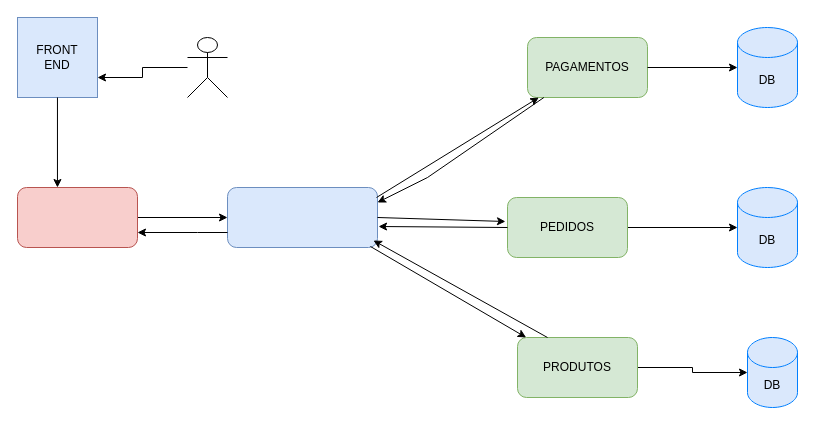
This 815x425 diagram has some shape labels left out. Each missing label, with the box of its shape:
Actor: (186, 36, 228, 98)
BFF: (16, 186, 138, 248)
ORQUESTRADOR: (226, 186, 378, 248)
